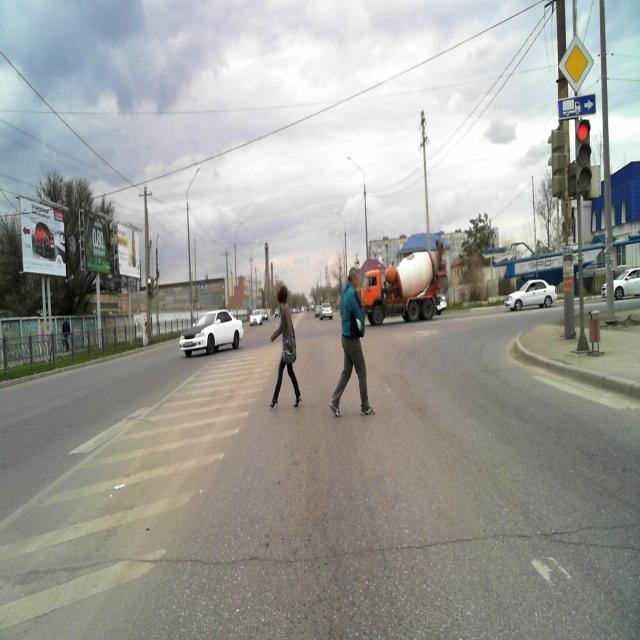road sign: (556, 34, 594, 92), (557, 94, 595, 117)
